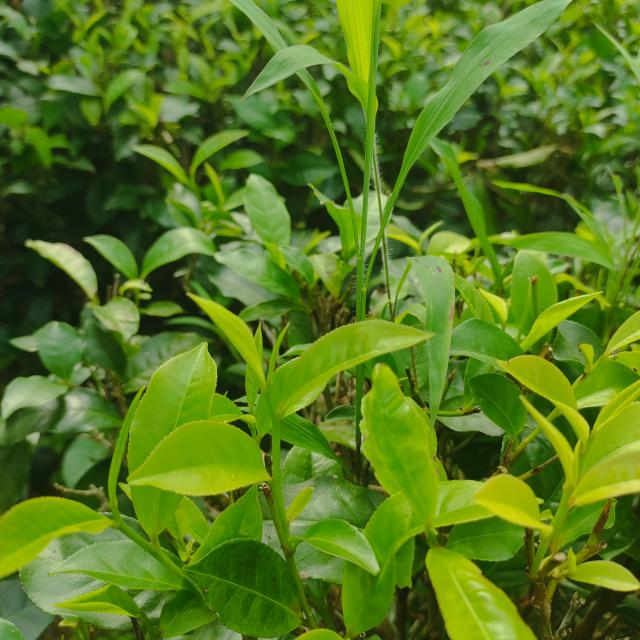unopened_leaf: (513, 387, 586, 488), (100, 379, 148, 527), (258, 321, 294, 402), (562, 433, 598, 492)
